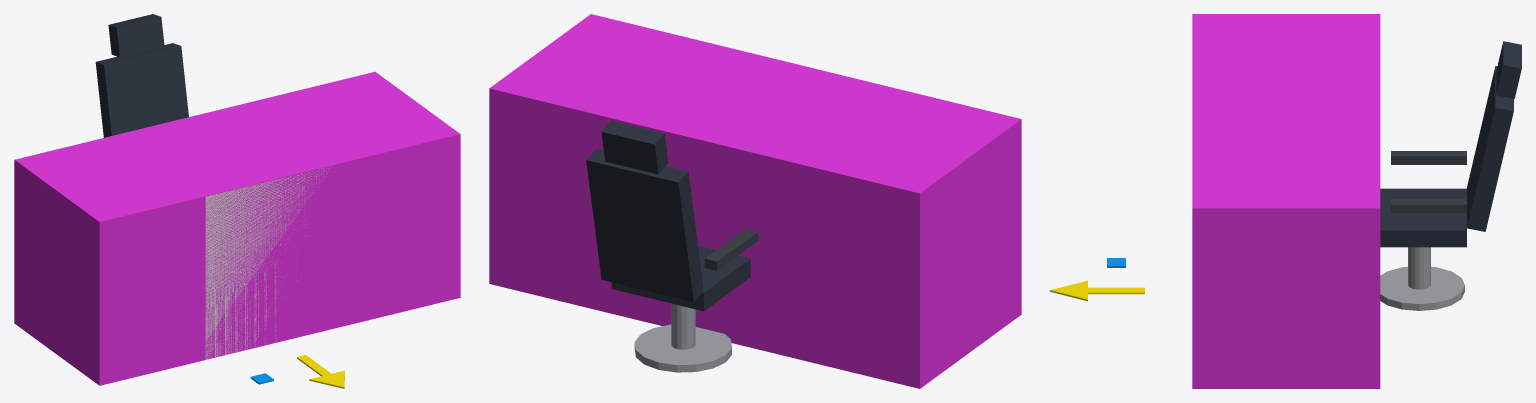
Rendered from consola_pilotaje_v0.obj.
3 views of the same model, side by side, from view 1: azimuth 30°, elevation 25°; view 2: azimuth 150°, elevation 25°; view 3: azimuth 270°, elevation 25° (orthographic). The views are drawn at different scales.
Visible parts, largest first — view 1: NAV_Pilotaje_Consola_A_COL, NAV_Pilotaje_Consola_A_Estructura, NAV_Pilotaje_Asiento_A_Respaldo, AYUDA_FlechaProa; view 2: NAV_Pilotaje_Consola_A_COL, NAV_Pilotaje_Asiento_A_Respaldo, NAV_Pilotaje_Asiento_A_Base, NAV_Pilotaje_Asiento_A_Cojin, NAV_Pilotaje_Asiento_A_Reposabrazos; view 3: NAV_Pilotaje_Consola_A_COL, NAV_Pilotaje_Asiento_A_Respaldo, NAV_Pilotaje_Asiento_A_Cojin, NAV_Pilotaje_Asiento_A_Base, NAV_Pilotaje_Asiento_A_Reposabrazos, AYUDA_FlechaProa.
Boxes of the visible parts, <box> form: NAV_Pilotaje_Consola_A_COL: <box>14,71,460,385</box>; NAV_Pilotaje_Consola_A_Estructura: <box>205,165,333,359</box>; NAV_Pilotaje_Asiento_A_Respaldo: <box>95,14,188,137</box>; AYUDA_FlechaProa: <box>250,355,344,388</box>; NAV_Pilotaje_Consola_A_COL: <box>489,14,1021,388</box>; NAV_Pilotaje_Asiento_A_Respaldo: <box>586,120,703,301</box>; NAV_Pilotaje_Asiento_A_Base: <box>634,303,731,372</box>; NAV_Pilotaje_Asiento_A_Cojin: <box>611,245,750,311</box>; NAV_Pilotaje_Asiento_A_Reposabrazos: <box>704,229,758,270</box>; NAV_Pilotaje_Consola_A_COL: <box>1192,14,1380,388</box>; NAV_Pilotaje_Asiento_A_Respaldo: <box>1467,41,1521,231</box>; NAV_Pilotaje_Asiento_A_Cojin: <box>1380,188,1466,247</box>; NAV_Pilotaje_Asiento_A_Base: <box>1380,247,1464,310</box>; NAV_Pilotaje_Asiento_A_Reposabrazos: <box>1391,151,1466,212</box>; AYUDA_FlechaProa: <box>1050,258,1144,301</box>.
Size of the model in its own units: 2.43 by 1.39 by 2.49.
